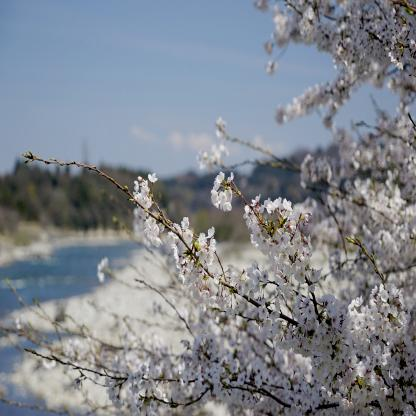Someiyoshino: (50, 2, 415, 416)
